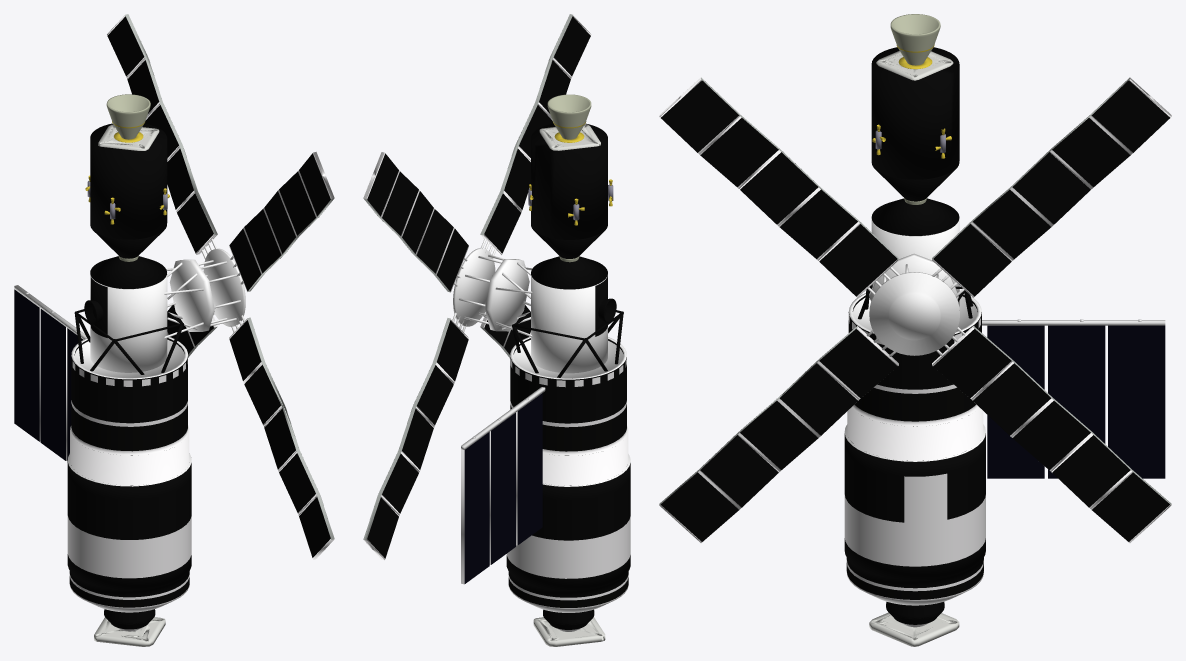
File: skylab-craft.glb
3 views of the same model, side by side, from view 1: azimuth 30°, elevation 25°; view 2: azimuth 150°, elevation 25°; view 3: azimuth 270°, elevation 25° (orthographic). The views are drawn at different scales.
Visible parts, largest first — view 1: craft; view 2: craft; view 3: craft.
Part boxes in pixels (bbox=[...]): craft: bbox=[14, 14, 334, 646]; craft: bbox=[363, 14, 630, 646]; craft: bbox=[659, 14, 1171, 646].
Size of the model in its own units: 9.57 by 31.46 by 24.25.
Materials: 1 (1 with a texture image).
